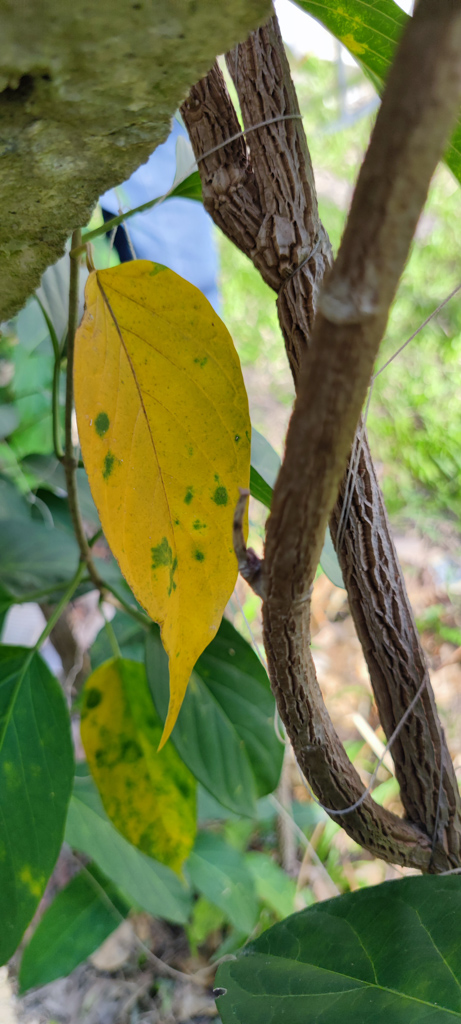Pepper yellow leaf: (76, 261, 259, 756), (71, 657, 208, 892)
